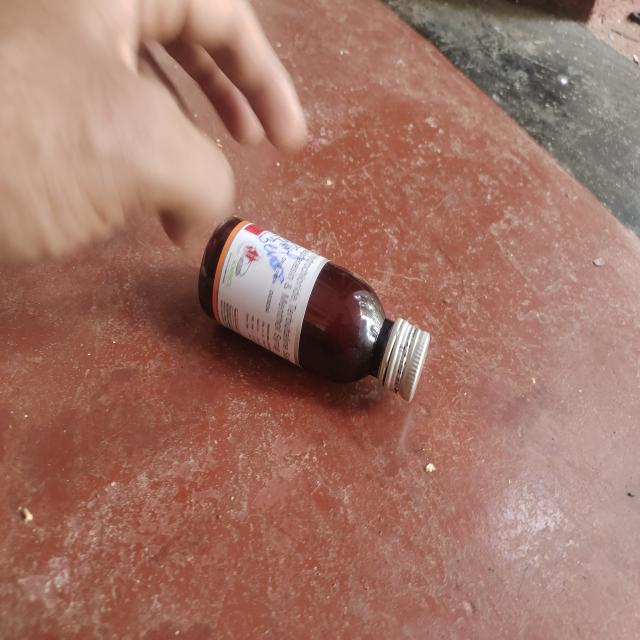plastic: (195, 214, 431, 405)
